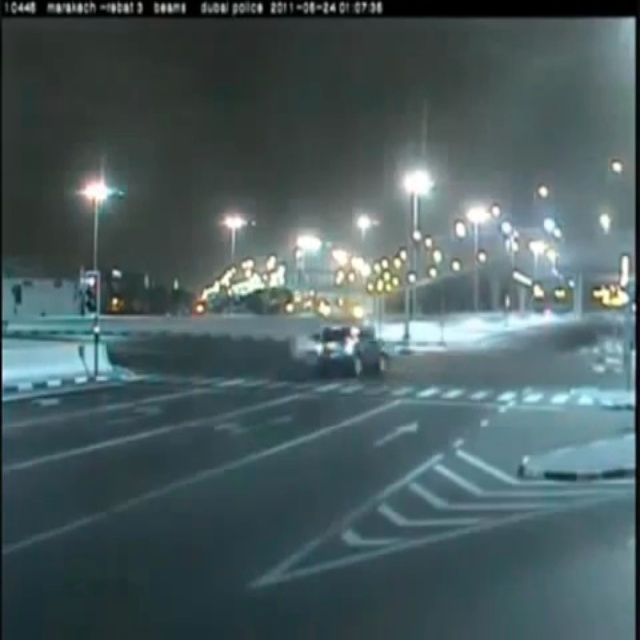acc: (278, 315, 402, 393)
